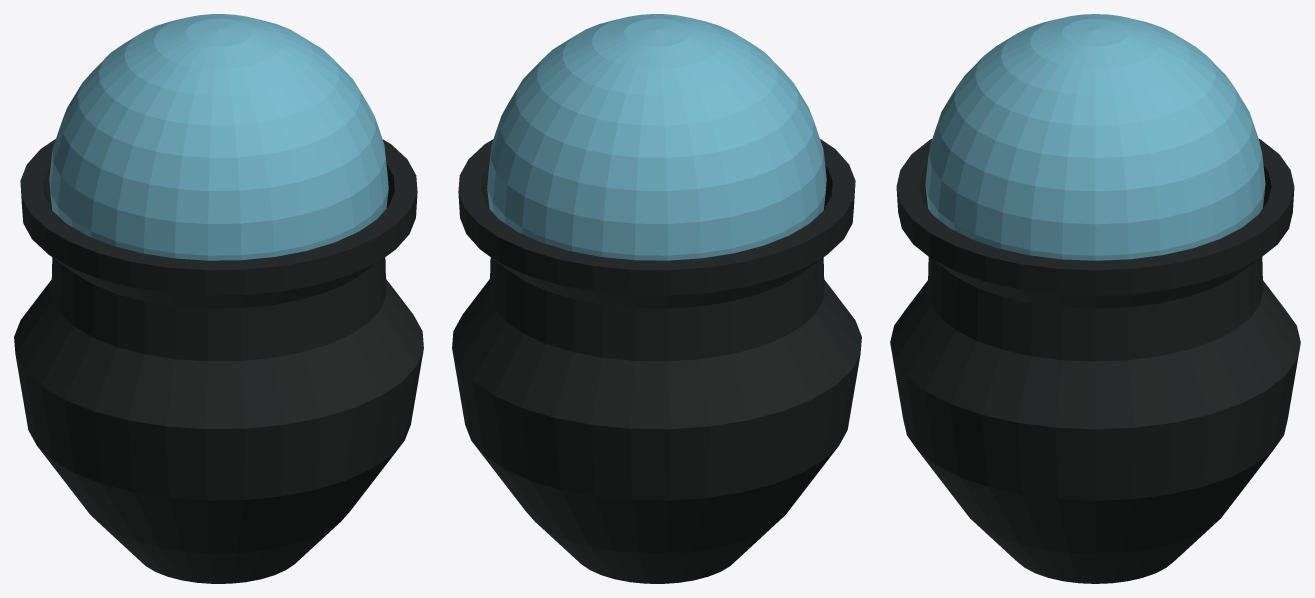
The model's file is SK_P_Smashroom_01_Lvl2.fbx.
3 renders of one model, left to right at view 1: azimuth 30°, elevation 25°; view 2: azimuth 150°, elevation 25°; view 3: azimuth 270°, elevation 25°, orthographic.
Visible parts, largest first — view 1: Pot_01_Lvl2; view 2: Pot_01_Lvl2; view 3: Pot_01_Lvl2.
Part boxes in pixels (box(x1,y1,x2,y2)): Pot_01_Lvl2: box(14, 14, 423, 583); Pot_01_Lvl2: box(452, 14, 861, 583); Pot_01_Lvl2: box(890, 14, 1300, 583).
Size of the model in its own units: 103 by 103 by 144.
